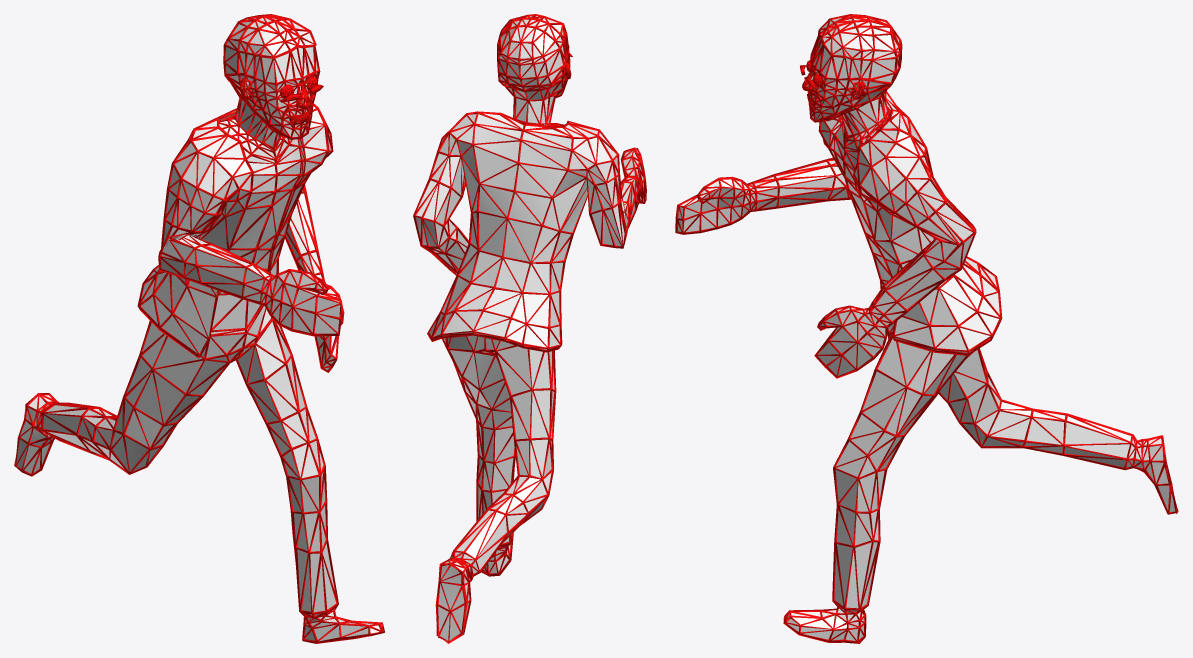
The model's file is elegantRun_000001.obj.
3 renders of one model, left to right at view 1: azimuth 30°, elevation 25°; view 2: azimuth 150°, elevation 25°; view 3: azimuth 270°, elevation 25°, orthographic. The views are drawn at different scales.
Parts seen in each view (by area): view 1: BaseHuman_Cylinder.002; view 2: BaseHuman_Cylinder.002; view 3: BaseHuman_Cylinder.002.
Part boxes in pixels (<box>): BaseHuman_Cylinder.002: <box>14,14,384,643</box>; BaseHuman_Cylinder.002: <box>413,14,646,643</box>; BaseHuman_Cylinder.002: <box>675,14,1178,643</box>.
Size of the model in its own units: 1.5 by 4.69 by 3.58.
